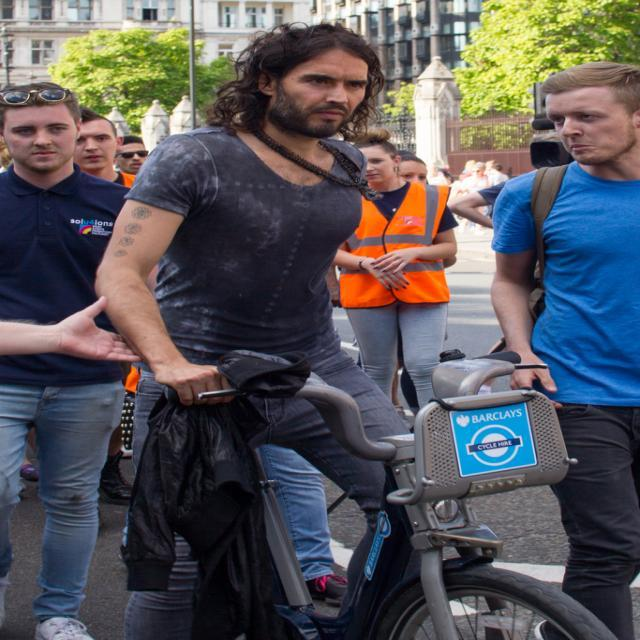car: (165, 346, 624, 640)
